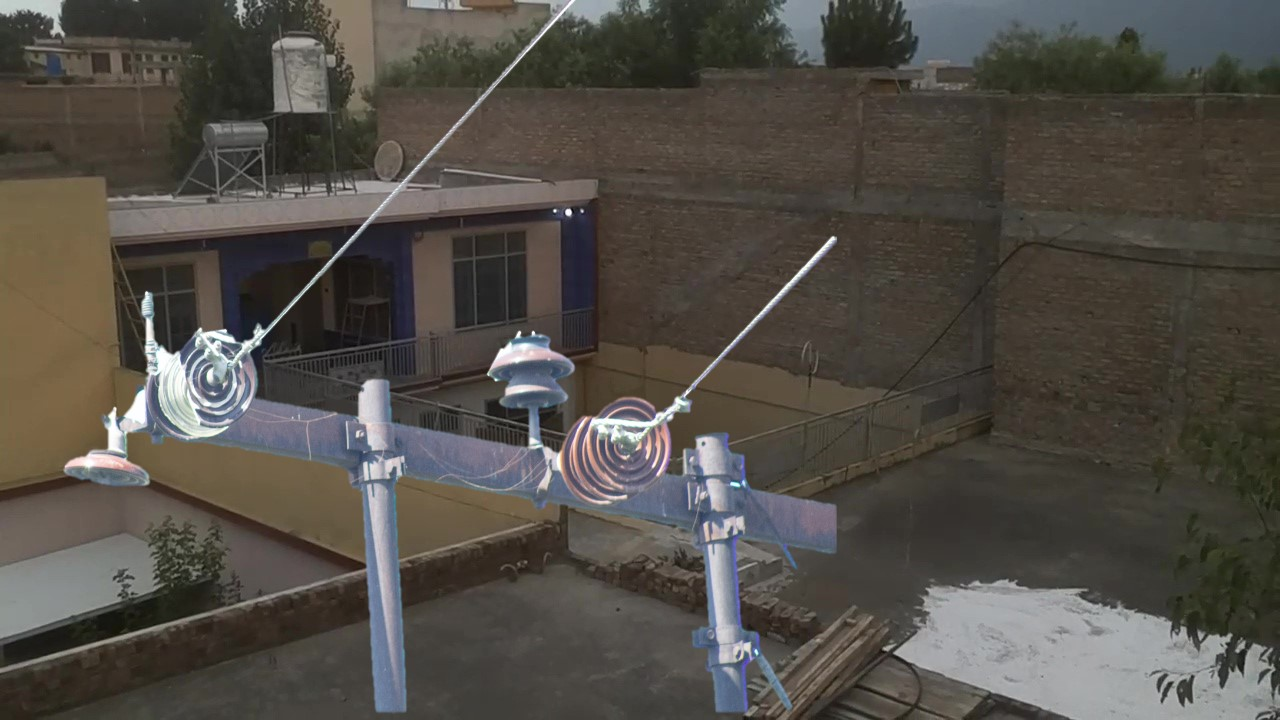defect_disc: (175, 324, 261, 433)
insulator_disc: (584, 391, 673, 490), (56, 430, 153, 498)
